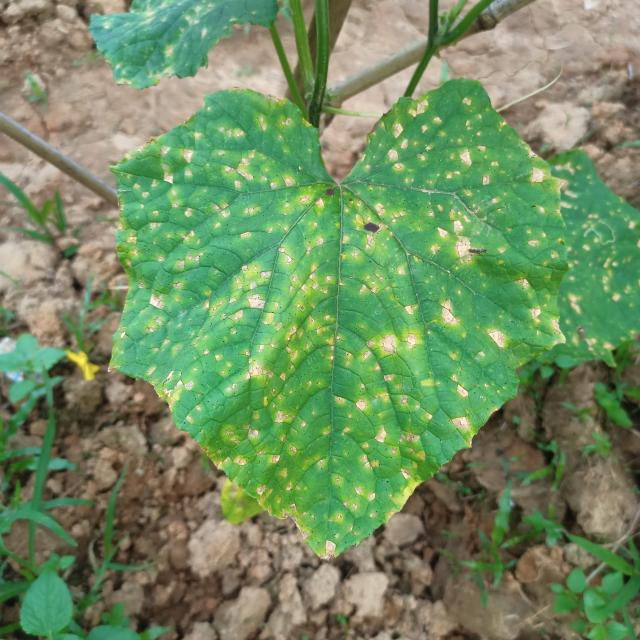disease_cucumber: (122, 103, 544, 522), (543, 163, 640, 355)
